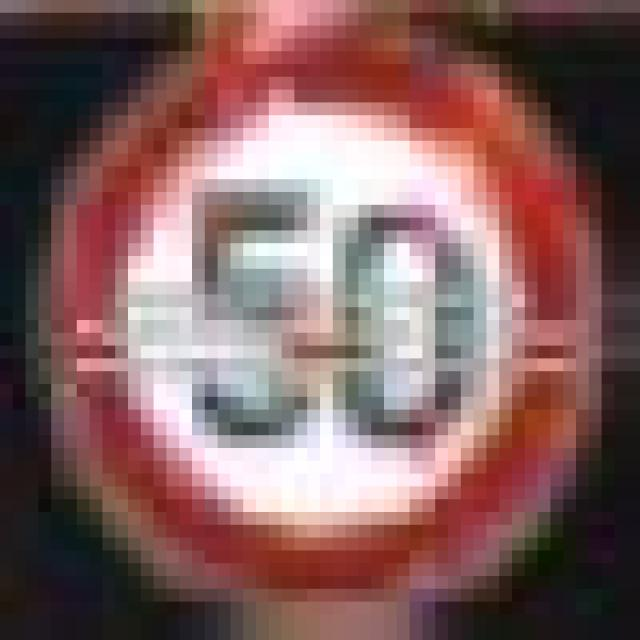SPEED_LIMIT_50: (38, 39, 589, 564)
